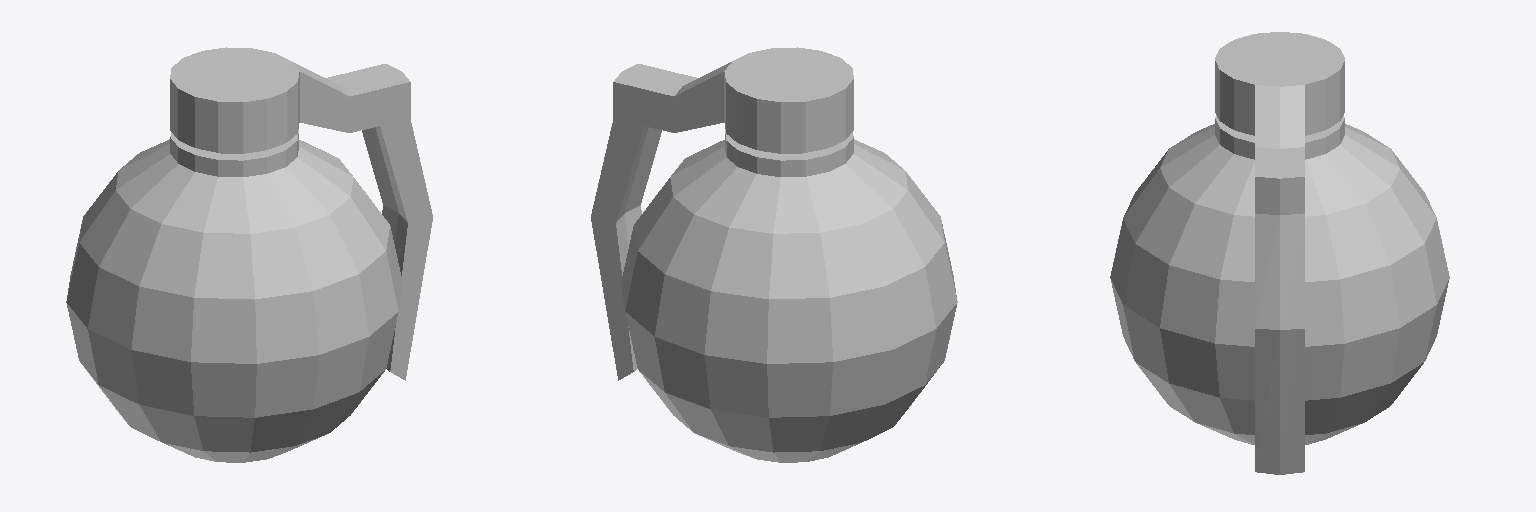
Rendered from grenade.obj.
The picture shows the model from 3 angles: view 1: azimuth 30°, elevation 25°; view 2: azimuth 150°, elevation 25°; view 3: azimuth 270°, elevation 25°; orthographic projection.
Visible parts, largest first — view 1: grenade; view 2: grenade; view 3: grenade.
Part boxes in pixels (x1,y1,x2,y2): grenade: (66,47,432,462); grenade: (591,47,957,462); grenade: (1110,32,1449,474).
Size of the model in its own units: 0.206 by 0.2178 by 0.1799.